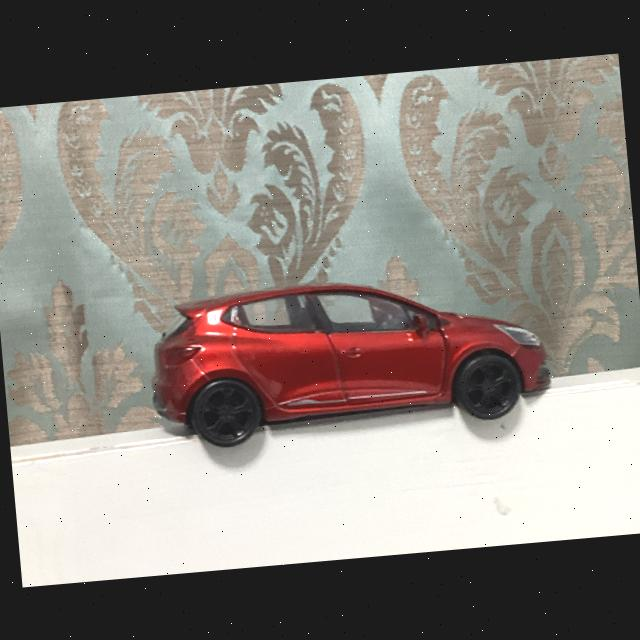Dogru_Jant: (198, 383, 254, 438), (466, 360, 517, 412)
